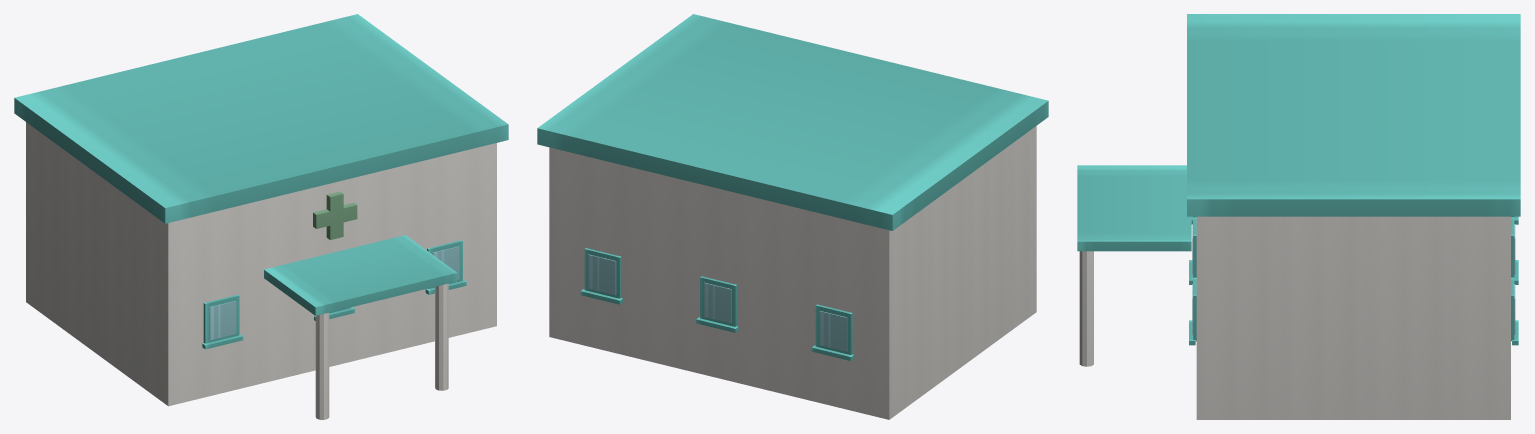
The model's file is clinic.glb.
The picture shows the model from 3 angles, left to right: view 1: azimuth 30°, elevation 25°; view 2: azimuth 150°, elevation 25°; view 3: azimuth 270°, elevation 25°; orthographic projection. The views are drawn at different scales.
Visible parts, largest first — view 1: clinic; view 2: clinic; view 3: clinic.
Boxes of the visible parts, <box> form: clinic: <box>14,14,508,419</box>; clinic: <box>537,14,1048,419</box>; clinic: <box>1077,14,1520,419</box>.
Bounding box in the file's own units: 9.2 × 5.2 × 9.3.
Materials: 1 (1 with a texture image).
